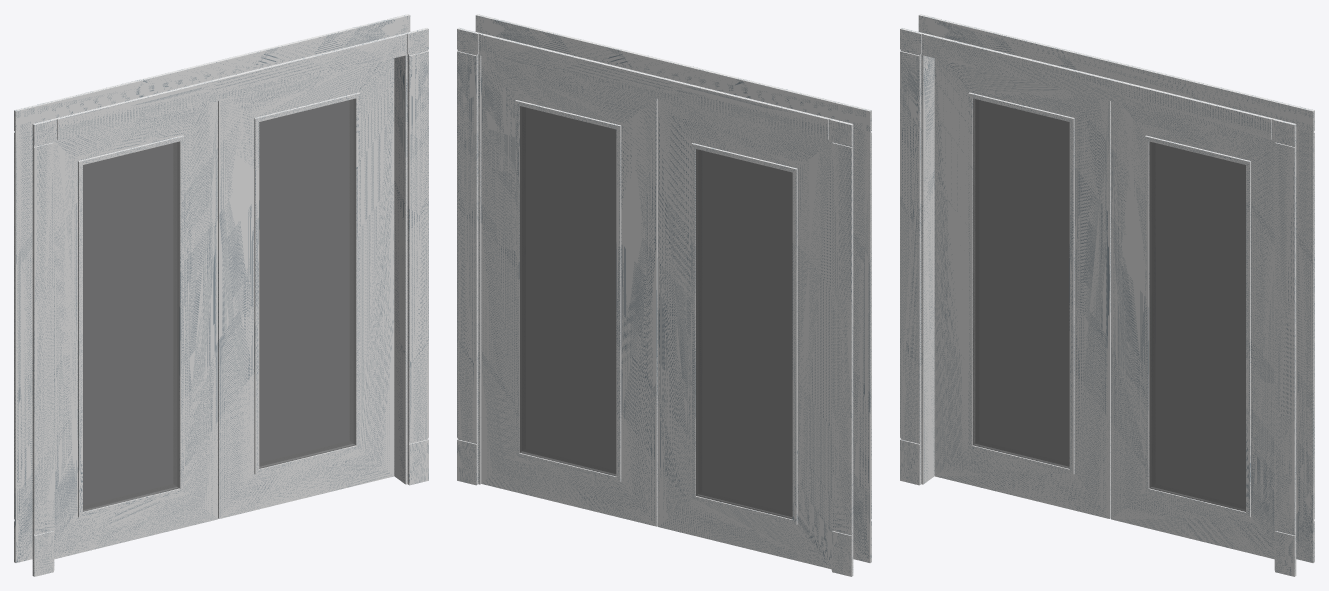
3 renders of one model, left to right at view 1: azimuth 30°, elevation 25°; view 2: azimuth 150°, elevation 25°; view 3: azimuth 330°, elevation 25°, orthographic.
Visible parts, largest first — view 1: group_8 (×6), group_9 (×2), group_4 (×2), group_2 (×2), group_3, group_0; view 2: group_8 (×6), group_9 (×2), group_4 (×2), group_2 (×2), group_3, group_0; view 3: group_8 (×6), group_9 (×2), group_3 (×2), group_2 (×2), group_4, group_0.
Boxes of the visible parts, bbox=[...] form: group_8 (×6): bbox=[54, 58, 394, 559]; group_9 (×2): bbox=[83, 98, 355, 511]; group_4 (×2): bbox=[14, 128, 53, 576]; group_2 (×2): bbox=[14, 14, 428, 145]; group_3: bbox=[407, 49, 428, 485]; group_0: bbox=[53, 54, 407, 570]; group_8 (×6): bbox=[481, 56, 831, 569]; group_9 (×2): bbox=[519, 106, 792, 519]; group_4 (×2): bbox=[832, 128, 871, 576]; group_2 (×2): bbox=[457, 14, 871, 145]; group_3: bbox=[457, 49, 478, 485]; group_0: bbox=[478, 54, 832, 570]; group_8 (×6): bbox=[934, 58, 1274, 559]; group_9 (×2): bbox=[973, 98, 1245, 511]; group_3 (×2): bbox=[1275, 128, 1314, 576]; group_2 (×2): bbox=[900, 14, 1314, 145]; group_4: bbox=[900, 49, 921, 485]; group_0: bbox=[921, 54, 1275, 570].
Size of the model in its own units: 79.53 by 7.13 by 87.01.
